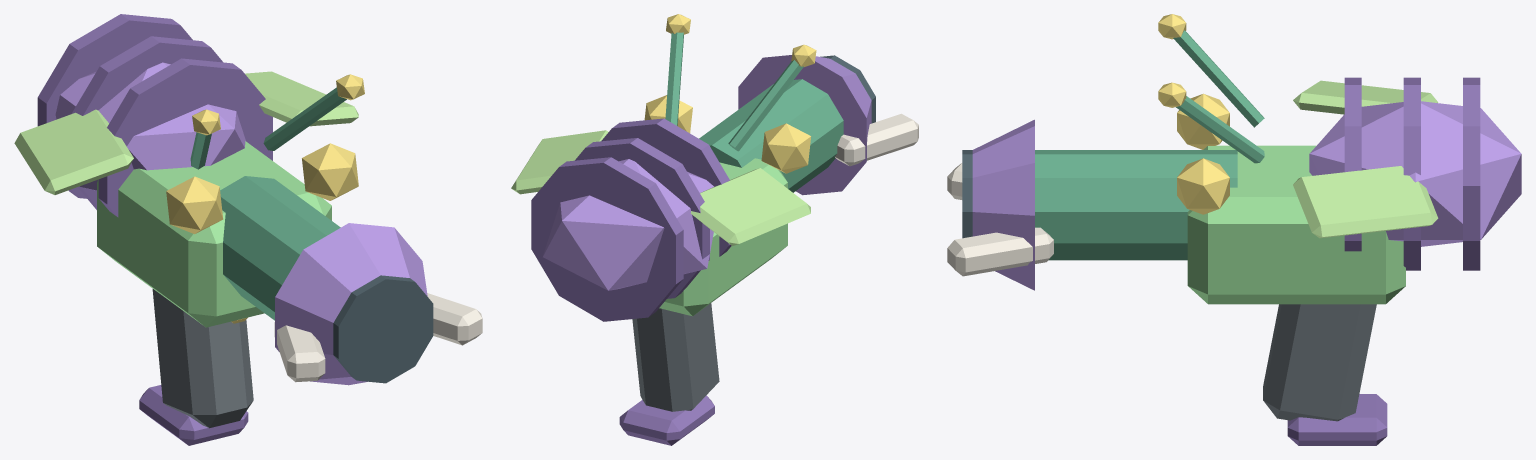
Rendered from BugCannon.glb.
The picture shows the model from 3 angles, left to right: view 1: azimuth 30°, elevation 25°; view 2: azimuth 150°, elevation 25°; view 3: azimuth 270°, elevation 25°; orthographic projection. The views are drawn at different scales.
Visible parts, largest first — view 1: Receiver, MuzzleBell, BugBarrel, Grip, AbdomenBand1, MuzzleOpening, LeftWingFin, BugAbdomen, AbdomenBand3, AbdomenBand2, RightWingFin, LeftCompoundEye (+8 smaller); view 2: AbdomenBand3, BugAbdomen, Grip, BugBarrel, MuzzleBell, LeftWingFin, Receiver, AbdomenBand2, AbdomenBand1, GripCap, RightWingFin, LeftMandible (+7 smaller); view 3: Receiver, BugBarrel, BugAbdomen, Grip, RightWingFin, MuzzleBell, AbdomenBand3, RightMandible, GripCap, AbdomenBand2, RightCompoundEye, LeftWingFin (+7 smaller).
Boxes of the visible parts, x1,y1,x2,y2 form: Receiver: [97, 141, 331, 327]; MuzzleBell: [275, 223, 427, 385]; BugBarrel: [220, 176, 340, 320]; Grip: [152, 289, 253, 428]; AbdomenBand1: [98, 58, 272, 217]; MuzzleOpening: [333, 275, 433, 383]; LeftWingFin: [14, 109, 133, 194]; BugAbdomen: [55, 62, 245, 190]; AbdomenBand3: [37, 14, 192, 198]; AbdomenBand2: [71, 36, 222, 209]; RightWingFin: [245, 71, 358, 126]; LeftCompoundEye: [166, 176, 223, 234]; AbdomenBand3: [531, 157, 683, 321]; BugAbdomen: [543, 159, 713, 290]; Grip: [632, 303, 719, 411]; BugBarrel: [699, 79, 843, 192]; MuzzleBell: [738, 55, 871, 195]; LeftWingFin: [690, 168, 810, 245]; Receiver: [659, 158, 787, 316]; AbdomenBand2: [575, 138, 709, 298]; AbdomenBand1: [601, 118, 731, 256]; GripCap: [619, 395, 714, 445]; RightWingFin: [511, 130, 608, 194]; LeftMandible: [835, 113, 918, 166]; Receiver: [1187, 145, 1405, 304]; BugBarrel: [1035, 150, 1237, 260]; BugAbdomen: [1309, 101, 1521, 246]; Grip: [1263, 304, 1376, 421]; RightWingFin: [1293, 166, 1438, 238]; MuzzleBell: [972, 119, 1034, 290]; AbdomenBand3: [1463, 77, 1480, 270]; RightMandible: [947, 227, 1053, 276]; GripCap: [1287, 394, 1387, 445]; AbdomenBand2: [1403, 77, 1420, 270]; RightCompoundEye: [1177, 158, 1229, 214]; LeftWingFin: [1293, 80, 1438, 114].
Bounding box in the file's own units: 1.13 × 1.36 × 1.84.
